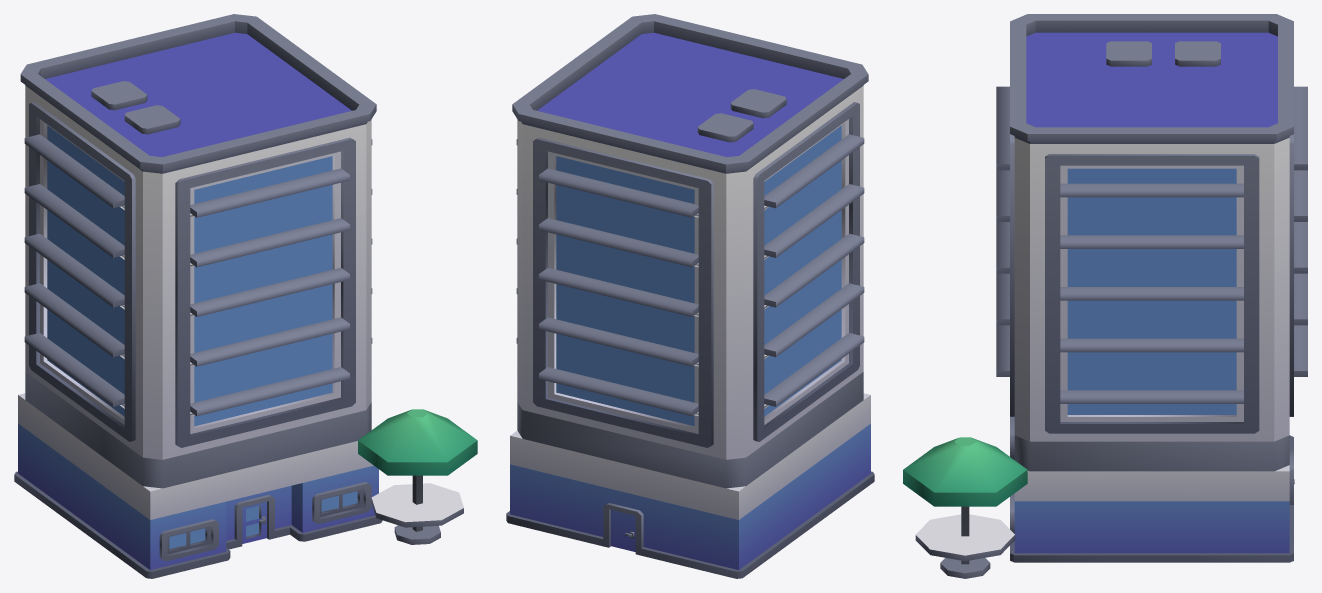
File: office_level1.glb
3 views of the same model, side by side, from view 1: azimuth 30°, elevation 25°; view 2: azimuth 150°, elevation 25°; view 3: azimuth 270°, elevation 25° (orthographic). The views are drawn at different scales.
Visible parts, largest first — view 1: building-skyscraper-a.001; view 2: building-skyscraper-a.001; view 3: building-skyscraper-a.001.
Part boxes in pixels (x1,y1,x2,y2): building-skyscraper-a.001: [14, 14, 477, 578]; building-skyscraper-a.001: [506, 14, 874, 578]; building-skyscraper-a.001: [903, 14, 1307, 578].
Size of the model in its own units: 1.17 by 1.52 by 1.3.
Materials: 2 (2 with a texture image).
